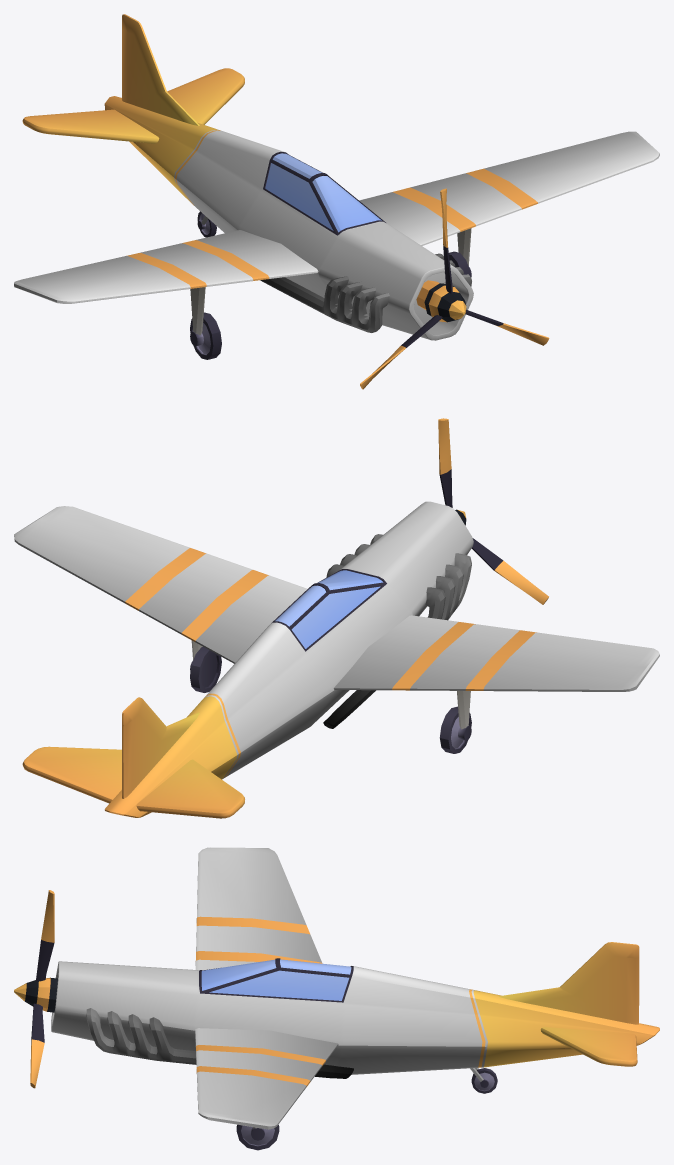
File: air_plane.fbx
3 renders of one model, top to bottom at view 1: azimuth 30°, elevation 25°; view 2: azimuth 150°, elevation 25°; view 3: azimuth 270°, elevation 25°, orthographic. The views are drawn at different scales.
Parts seen in each view (by area): view 1: air_plane, Canh quat; view 2: air_plane, Canh quat; view 3: air_plane, Canh quat.
Boxes of the visible parts, x1,y1,x2,y2 form: air_plane: [14, 14, 659, 359]; Canh quat: [360, 188, 549, 389]; air_plane: [14, 501, 659, 818]; Canh quat: [438, 418, 548, 604]; air_plane: [51, 847, 659, 1150]; Canh quat: [14, 890, 57, 1088].
Bounding box in the file's own units: 1276 × 430 × 1253.
